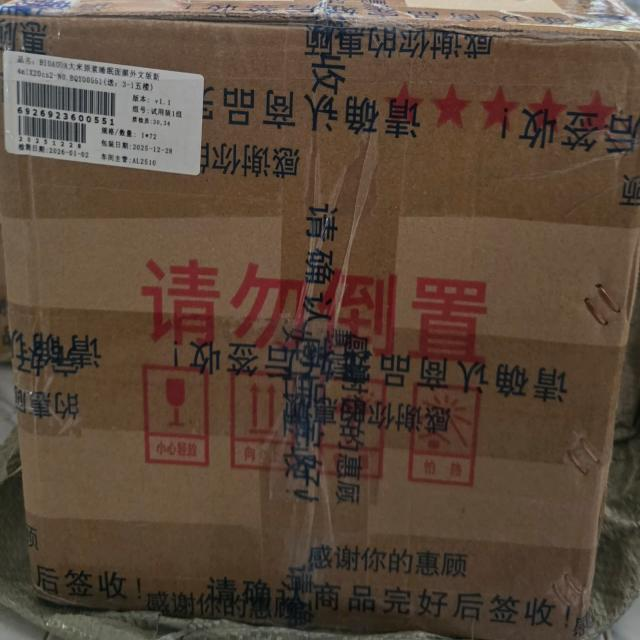carton_box: (0, 0, 640, 640)
export_mark_label: (0, 42, 218, 197)
fragile_label: (131, 352, 221, 485)
keep_dry_label: (323, 369, 394, 492)
protect_from_heat_label: (404, 362, 488, 497)
this_side_up_label: (225, 359, 310, 482)
